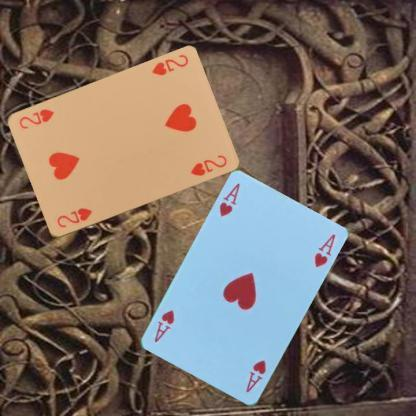2h: (149, 52, 190, 78), (54, 204, 93, 230)
Ah: (217, 180, 242, 218), (243, 358, 268, 394)
